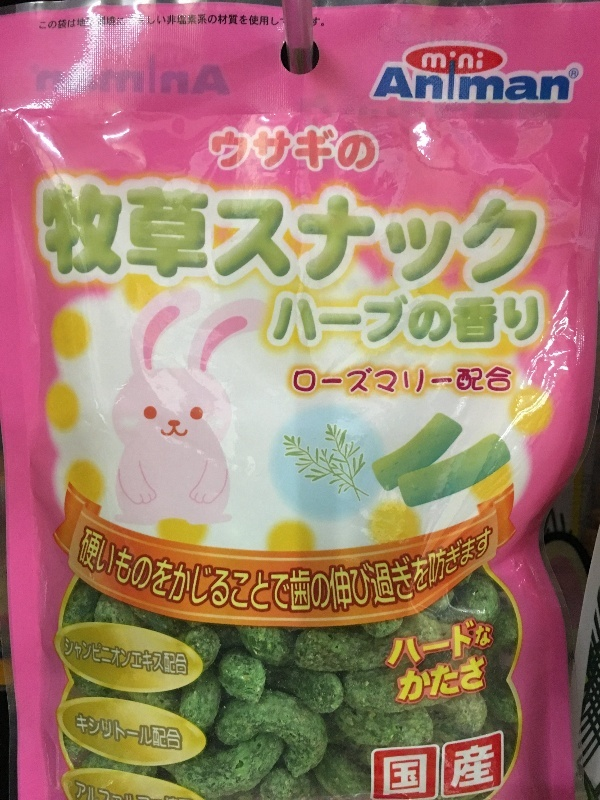text: (49, 179, 64, 291), (65, 179, 80, 291), (81, 179, 96, 291), (97, 179, 112, 291), (113, 179, 128, 291), (129, 179, 144, 291), (145, 179, 160, 291), (161, 179, 176, 291), (177, 179, 192, 291), (193, 179, 208, 291), (209, 179, 224, 291), (225, 179, 240, 291), (241, 179, 256, 291), (257, 179, 272, 291), (273, 179, 288, 291), (289, 179, 304, 291), (305, 179, 320, 291), (321, 179, 336, 291), (337, 179, 352, 291), (353, 179, 368, 291), (369, 179, 384, 291), (385, 179, 400, 291), (401, 179, 416, 291), (417, 179, 432, 291), (433, 179, 448, 291), (449, 179, 464, 291), (465, 179, 480, 291), (481, 179, 496, 291), (497, 179, 512, 291), (513, 179, 528, 291), (529, 179, 544, 291), (97, 514, 112, 625), (113, 514, 128, 625), (129, 514, 144, 625), (145, 514, 160, 625), (161, 514, 176, 625), (177, 514, 192, 625), (193, 514, 208, 625), (209, 514, 224, 625), (225, 514, 240, 625), (241, 514, 256, 625), (257, 514, 272, 625), (273, 514, 288, 625), (289, 514, 304, 625), (305, 514, 320, 625), (321, 514, 336, 625), (337, 514, 352, 625), (353, 514, 368, 625), (369, 514, 384, 625), (385, 514, 400, 625), (401, 514, 416, 625), (417, 514, 432, 625), (433, 514, 448, 625), (449, 514, 464, 625), (465, 514, 480, 625), (481, 514, 496, 625), (85, 514, 96, 625), (38, 179, 48, 291), (289, 288, 304, 349), (305, 288, 320, 349), (321, 288, 336, 349), (337, 288, 352, 349), (353, 288, 368, 349), (369, 288, 384, 349), (385, 288, 400, 349), (401, 288, 416, 349), (417, 288, 432, 349), (433, 288, 448, 349), (449, 288, 464, 349), (465, 288, 480, 349), (481, 288, 496, 349), (497, 288, 512, 349), (513, 288, 528, 349), (401, 614, 416, 675), (417, 614, 432, 675), (433, 614, 448, 675), (449, 614, 464, 675), (465, 614, 480, 675), (385, 740, 400, 800), (401, 740, 416, 800), (417, 740, 432, 800), (433, 740, 448, 800), (449, 740, 464, 800), (465, 740, 480, 800), (481, 740, 496, 800), (529, 288, 543, 349), (401, 652, 416, 708), (417, 652, 432, 708), (433, 652, 448, 708), (449, 652, 464, 708), (465, 652, 480, 708), (401, 52, 416, 107), (417, 52, 432, 107), (433, 52, 448, 107), (449, 52, 464, 107), (465, 52, 480, 107), (481, 52, 496, 107), (497, 52, 512, 107), (513, 52, 528, 107), (529, 52, 544, 107), (545, 52, 560, 107), (481, 614, 494, 675), (65, 634, 80, 683), (81, 634, 96, 683), (97, 634, 112, 683), (113, 634, 128, 683), (129, 634, 144, 683), (145, 634, 160, 683), (161, 634, 176, 683), (209, 127, 224, 175), (225, 127, 240, 175), (241, 127, 256, 175), (257, 127, 272, 175), (273, 127, 288, 175), (289, 127, 304, 175), (305, 127, 320, 175), (321, 127, 336, 175), (337, 127, 352, 175), (353, 127, 368, 175), (177, 634, 191, 683), (497, 514, 503, 625), (49, 58, 64, 102), (65, 58, 80, 102), (81, 58, 96, 102), (97, 58, 112, 102), (113, 58, 128, 102), (129, 58, 144, 102), (145, 58, 160, 102), (161, 58, 176, 102), (177, 58, 192, 102), (193, 58, 208, 102), (209, 58, 224, 102), (388, 52, 400, 107), (81, 711, 96, 754), (97, 711, 112, 754), (113, 711, 128, 754), (129, 711, 144, 754), (145, 711, 160, 754), (161, 711, 176, 754), (497, 362, 513, 397), (561, 52, 571, 107), (36, 58, 48, 102), (305, 362, 320, 397), (321, 362, 336, 397), (337, 362, 352, 397), (353, 362, 368, 397), (369, 362, 384, 397), (385, 362, 400, 397), (401, 362, 416, 397), (417, 362, 432, 397), (433, 362, 448, 397), (449, 362, 464, 397), (465, 362, 480, 397), (481, 362, 496, 397), (290, 362, 304, 397), (369, 127, 379, 175), (545, 179, 549, 291), (481, 652, 489, 708), (393, 614, 400, 675), (225, 58, 233, 102), (433, 50, 448, 71), (449, 50, 464, 71), (465, 50, 480, 71), (49, 11, 64, 32), (65, 11, 80, 32), (81, 11, 96, 32), (97, 11, 112, 32), (113, 11, 128, 32), (129, 11, 144, 32), (145, 11, 160, 32), (161, 11, 176, 32), (177, 11, 192, 32), (193, 11, 208, 32), (209, 11, 224, 32), (225, 11, 240, 32), (241, 11, 256, 32), (257, 11, 272, 32), (283, 288, 288, 349), (177, 711, 184, 754), (81, 783, 96, 800), (97, 783, 112, 800), (113, 783, 128, 800), (129, 783, 144, 800), (145, 783, 160, 800), (161, 783, 176, 800), (273, 11, 285, 32), (177, 783, 190, 800), (75, 711, 80, 754), (423, 50, 432, 71), (39, 11, 48, 32), (313, 16, 320, 29), (75, 783, 80, 800), (571, 66, 576, 82), (481, 50, 484, 71), (383, 740, 384, 800), (497, 740, 498, 800), (399, 652, 400, 708), (321, 16, 325, 29), (63, 634, 64, 683), (577, 66, 579, 82)
